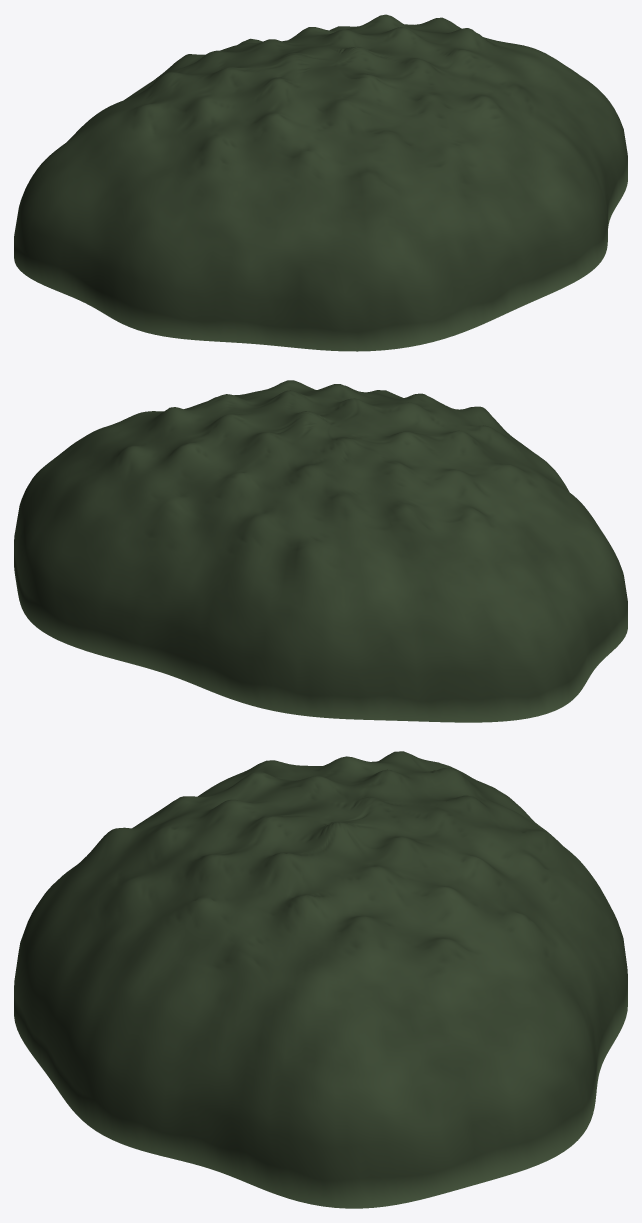
File: massive-stromatoporoid.glb
3 renders of one model, top to bottom at view 1: azimuth 30°, elevation 25°; view 2: azimuth 150°, elevation 25°; view 3: azimuth 270°, elevation 25°, orthographic. The views are drawn at different scales.
Parts seen in each view (by area): view 1: massive-stromatoporoid; view 2: massive-stromatoporoid; view 3: massive-stromatoporoid.
Boxes of the visible parts, box(x1,y1,x2,y2) form: massive-stromatoporoid: box(14, 14, 627, 351); massive-stromatoporoid: box(14, 380, 627, 722); massive-stromatoporoid: box(14, 751, 627, 1208).
Bounding box in the file's own units: 1.19 × 0.3741 × 0.9248.
